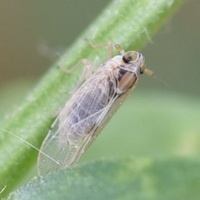insect: (37, 44, 144, 177)
